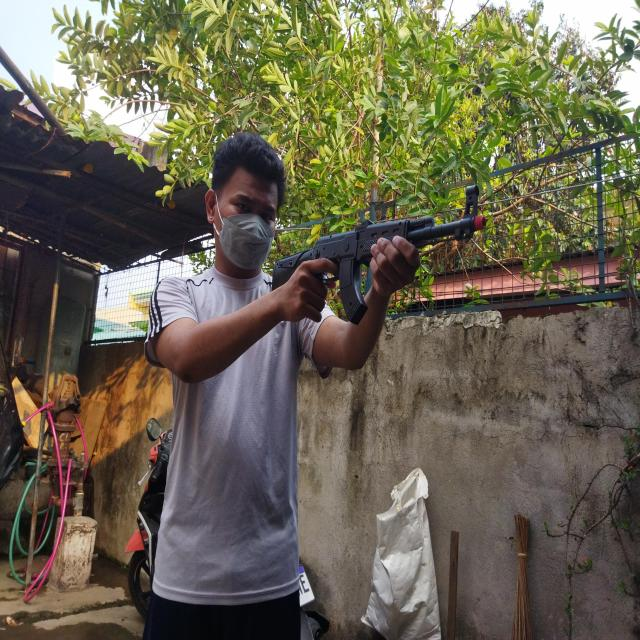rifle: (272, 184, 486, 324)
